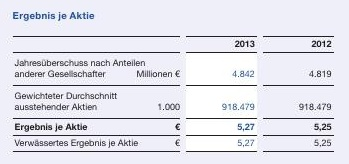table: (0, 0, 349, 164)
